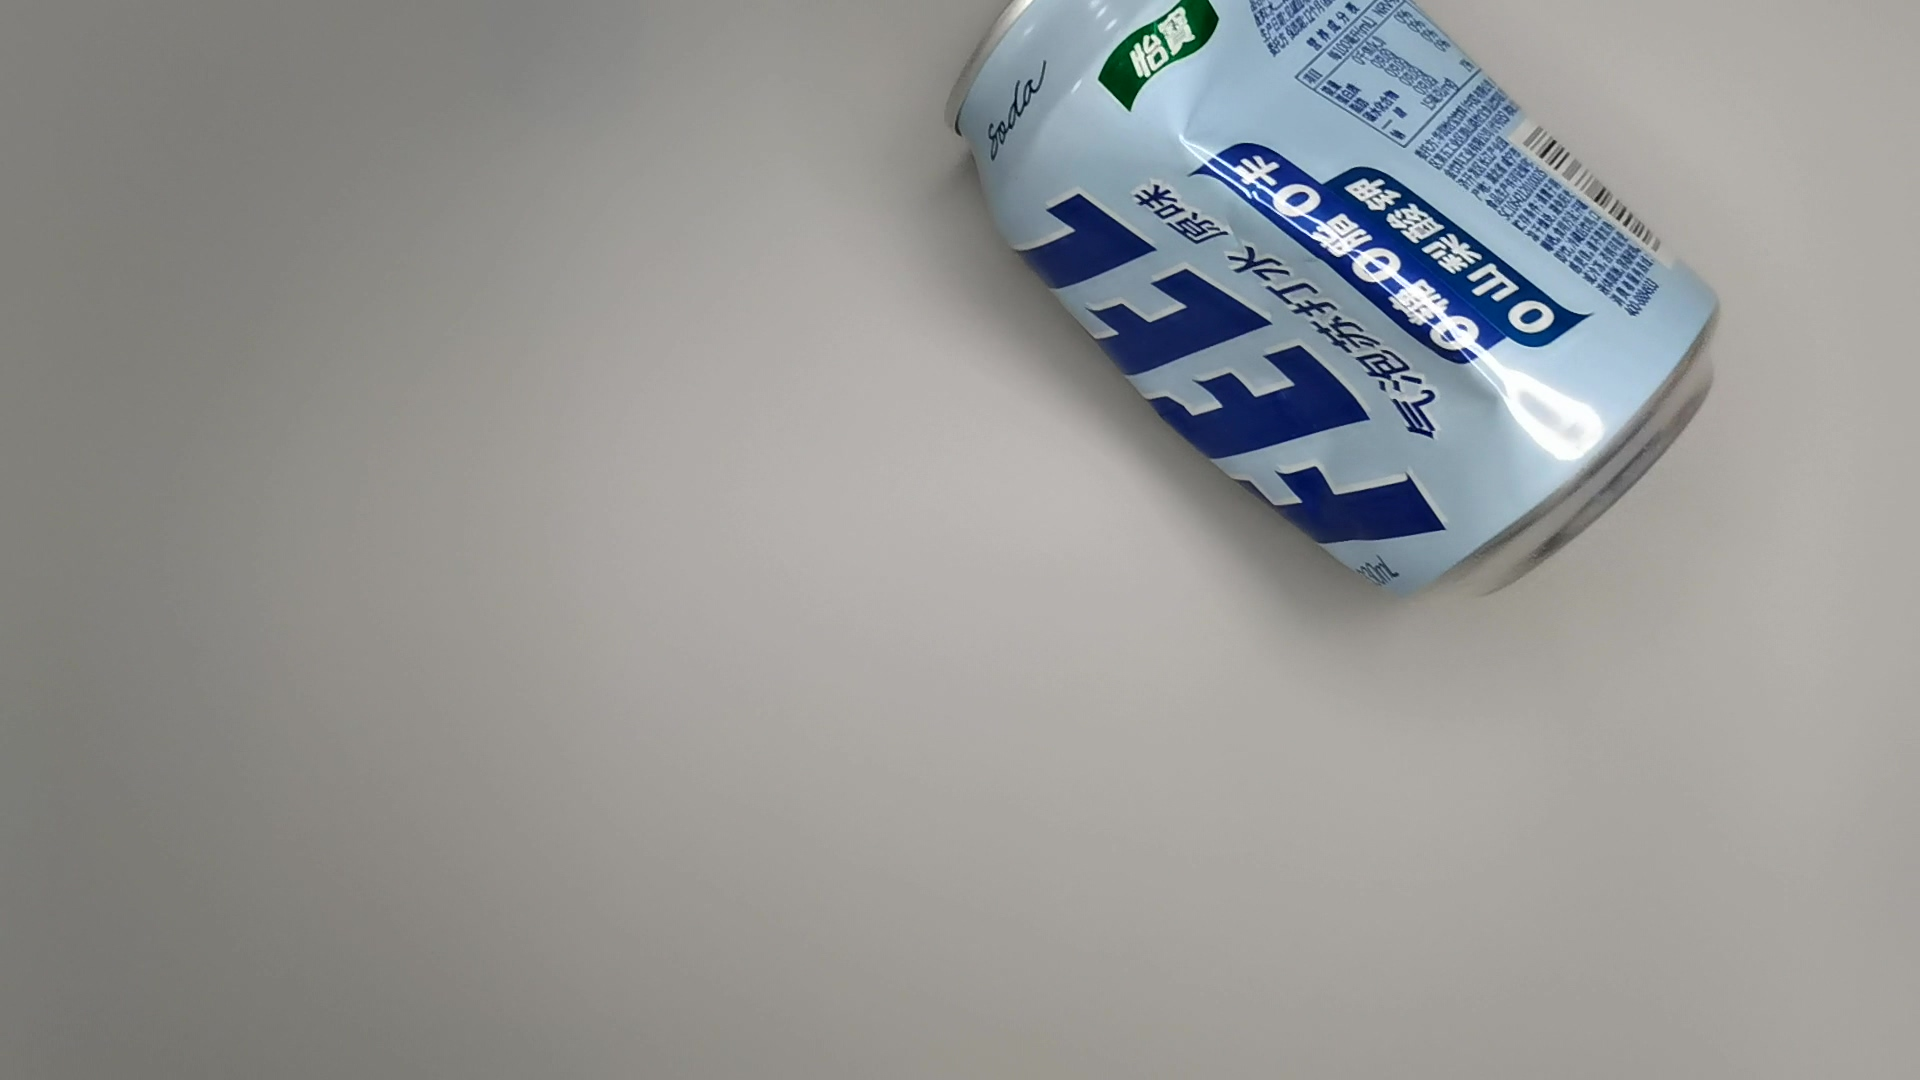can: (945, 1, 1726, 618)
